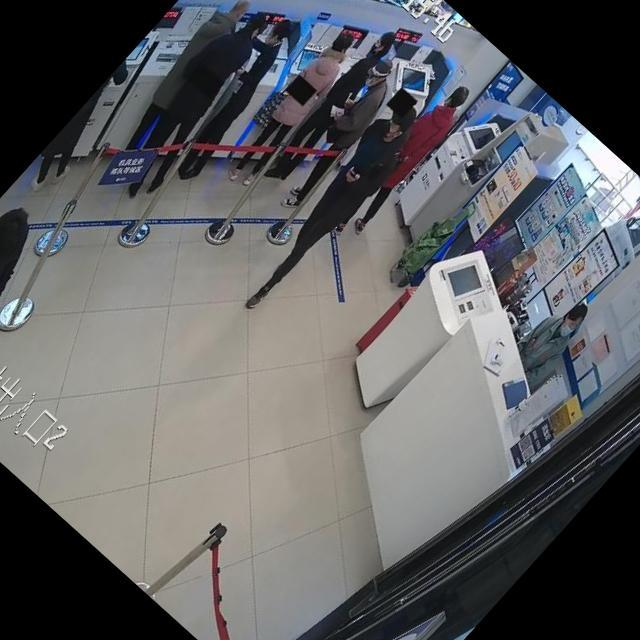person: (224, 92, 436, 320), (98, 0, 295, 204), (103, 0, 282, 187), (153, 13, 317, 188), (214, 26, 370, 193), (326, 77, 480, 243), (103, 0, 263, 157), (261, 49, 414, 212), (262, 54, 412, 215), (256, 26, 406, 187), (18, 43, 164, 200), (0, 191, 75, 406), (0, 190, 75, 405), (505, 288, 596, 382)
